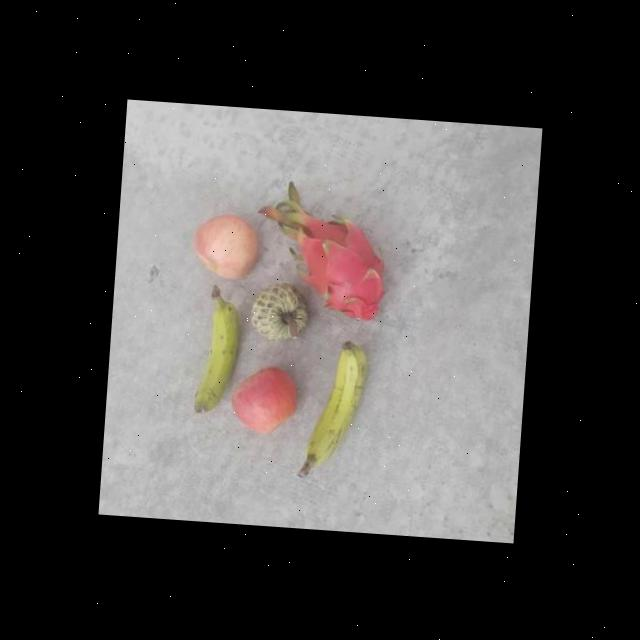Sakya fruit: (250, 282, 310, 345)
apple: (190, 205, 264, 285), (229, 364, 301, 436)
banana: (298, 337, 372, 463), (187, 292, 244, 418)
pitaya: (301, 214, 393, 324)
